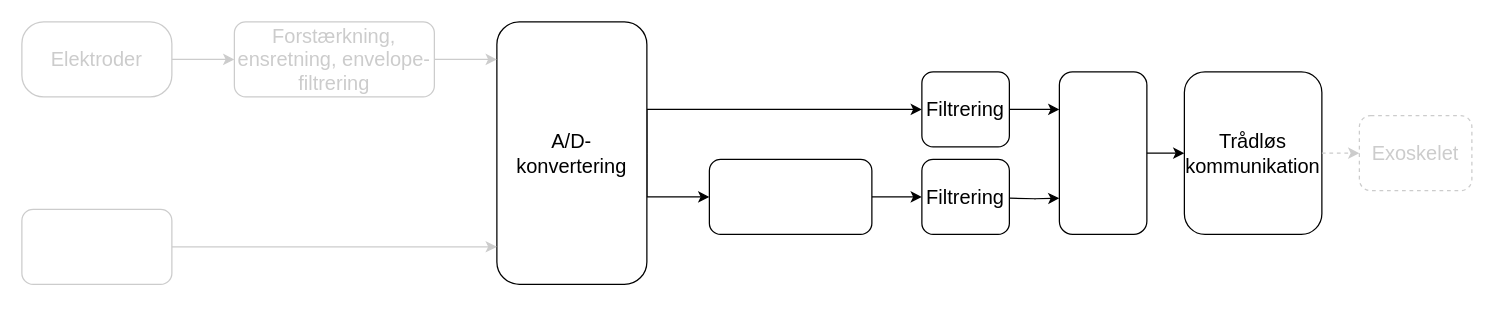
This 1494x316 diagram has some shape labels left out. The box of each missing label's shape, as (x1, y1, x2, y2) in pixels:
Accelerometer: (21, 208, 172, 284)
Algoritme: (1058, 71, 1147, 234)
Offset-justering: (708, 158, 872, 234)
